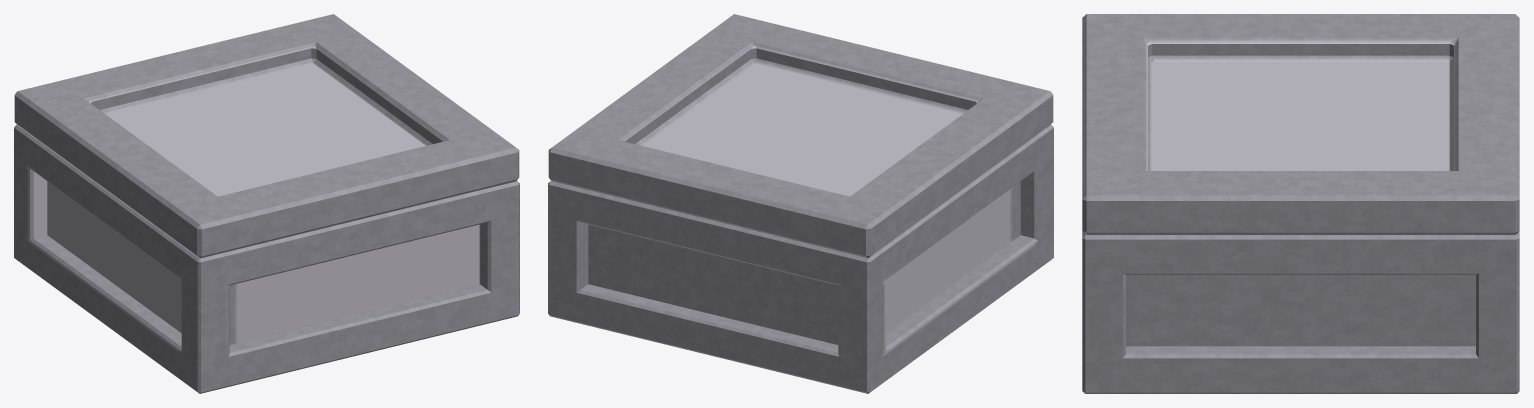
File: crate.glb
The picture shows the model from 3 angles, left to right: view 1: azimuth 30°, elevation 25°; view 2: azimuth 150°, elevation 25°; view 3: azimuth 270°, elevation 25°; orthographic projection. The views are drawn at different scales.
Visible parts, largest first — view 1: Cube.001, Cube.003; view 2: Cube.001, Cube.003; view 3: Cube.001, Cube.003.
Boxes of the visible parts, x1,y1,x2,y2 form: Cube.001: (14,14,519,258); Cube.003: (14,124,519,393); Cube.001: (548,14,1053,258); Cube.003: (548,124,1053,393); Cube.001: (1082,14,1519,234); Cube.003: (1082,231,1519,393).
Size of the model in its own units: 2 by 1 by 2.
Materials: 2 (2 with a texture image).
